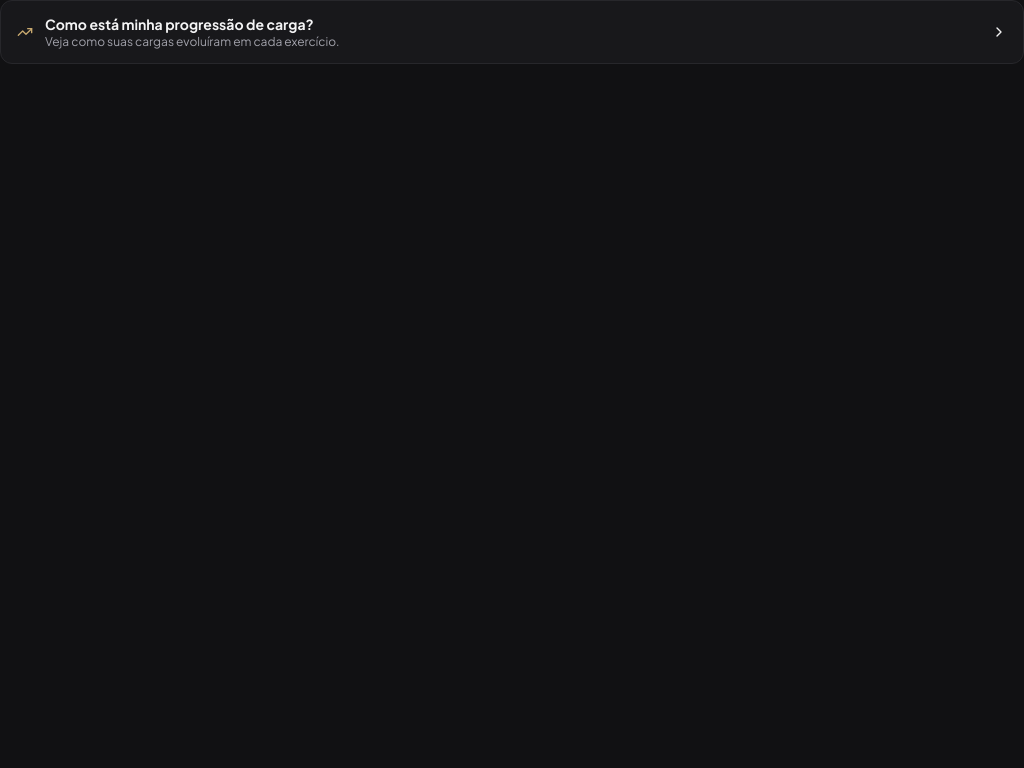
it: progressão acompanha a semana que o aluno está vendo › com semana escolhida mostra os registros dela e avisa qual é a semana atual
The width and height of the screenshot is (1024, 768).
Click the text "Como está minha progressão de carga?" at (179, 24), box [45,15,314,33]
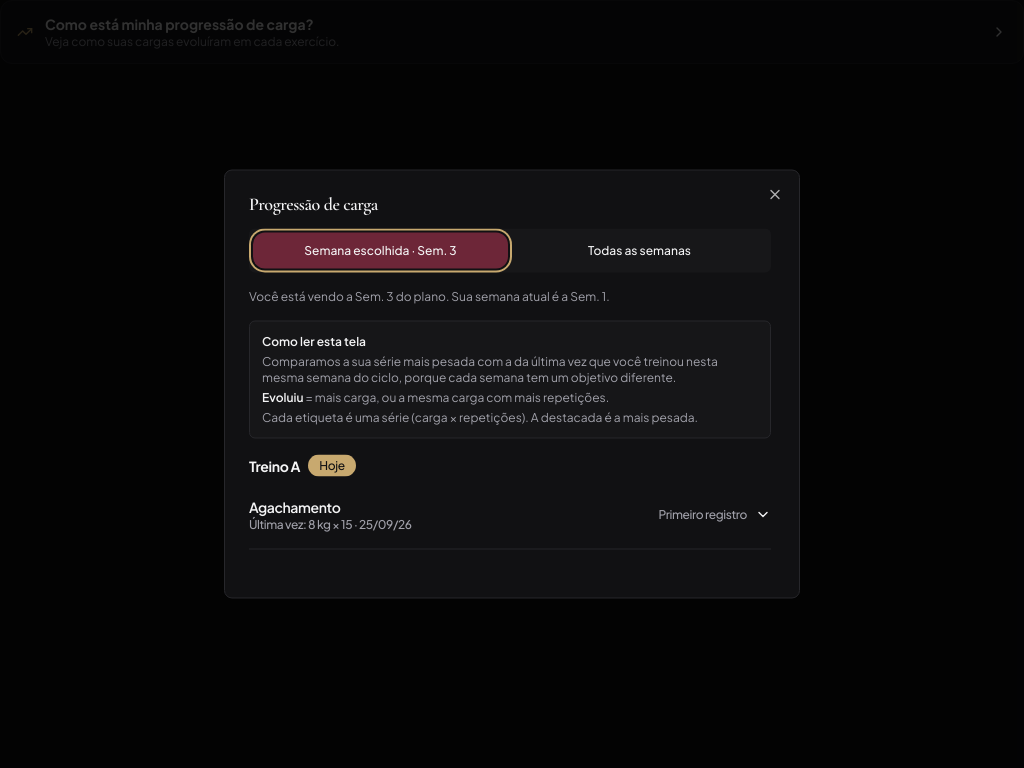
expect the text "Agachamento" is shown: met, box [249,498,340,516]
expect the button "Semana escolhida · Sem. 3" is shown: met, box [253,232,508,268]
expect the text "Você está vendo a Sem. 3 do plano. Sua semana atual é a Sem. 1." is shown: met, box [249,288,610,304]
